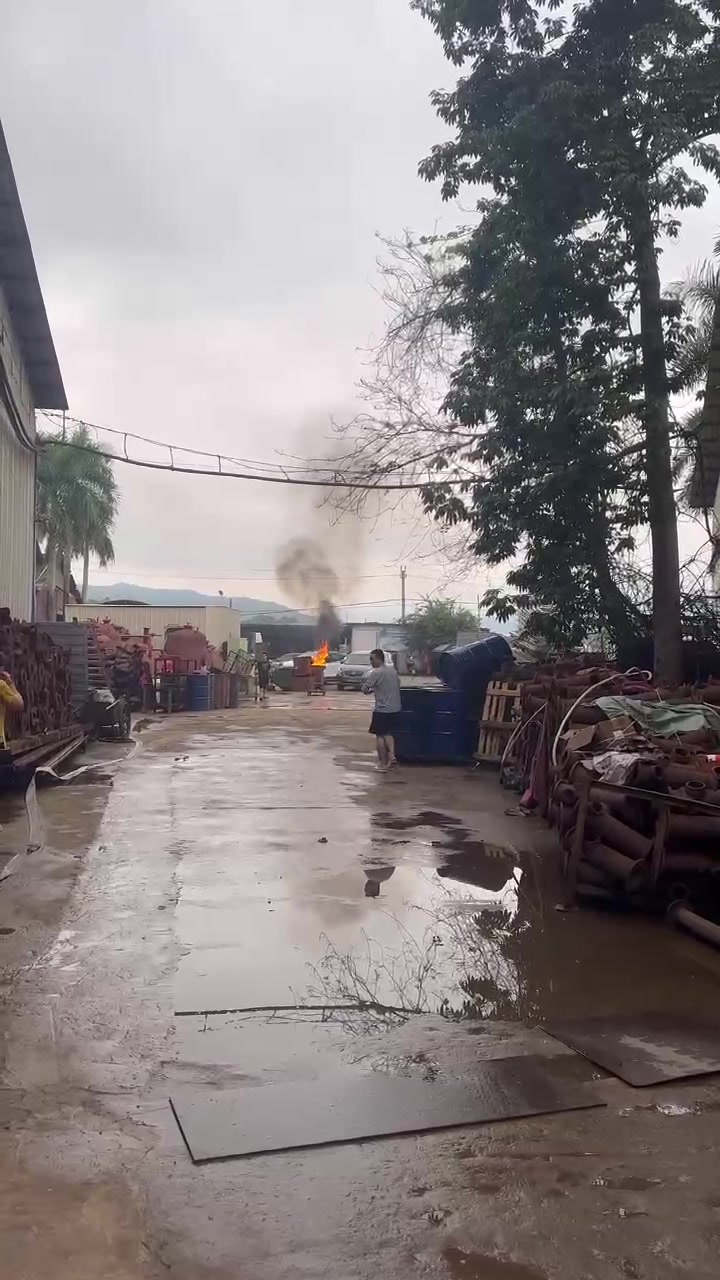fire: (311, 638, 326, 664)
